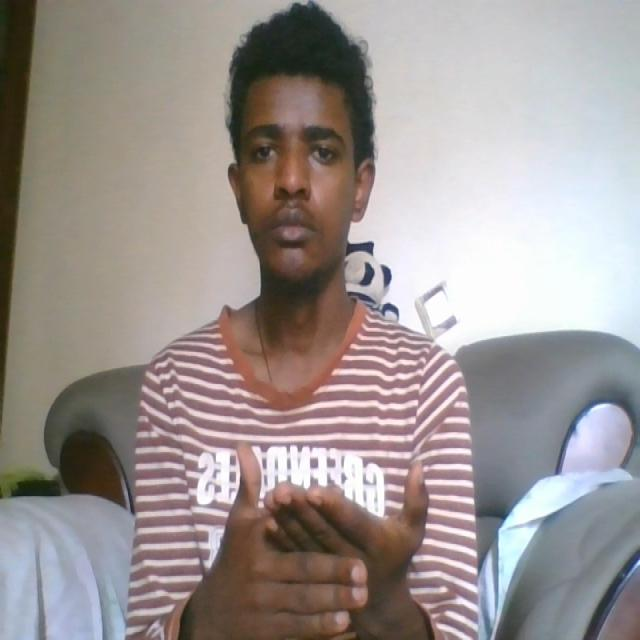sga: (213, 457, 433, 640)
